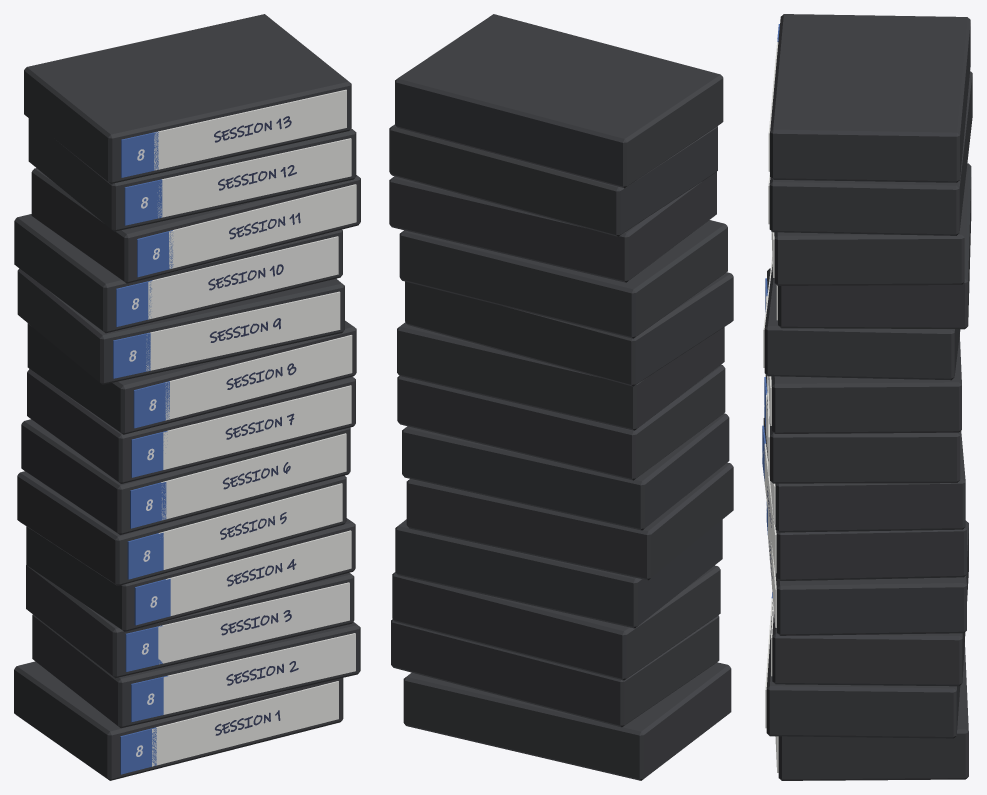
The model's file is video8_tape_stack.glb.
The picture shows the model from 3 angles, left to right: view 1: azimuth 30°, elevation 25°; view 2: azimuth 150°, elevation 25°; view 3: azimuth 270°, elevation 25°; orthographic projection.
Parts seen in each view (by area): view 1: TapeCaseShells, TapeCaseSleeves, TapeCaseBands; view 2: TapeCaseShells; view 3: TapeCaseShells, TapeCaseSleeves, TapeCaseBands.
Boxes of the visible parts, box(x1,y1,x2,y2) form: TapeCaseShells: box(14, 14, 360, 780); TapeCaseSleeves: box(146, 89, 356, 766); TapeCaseBands: box(113, 131, 173, 774); TapeCaseShells: box(389, 14, 733, 780); TapeCaseShells: box(763, 14, 972, 780); TapeCaseSleeves: box(763, 39, 778, 772); TapeCaseBands: box(762, 24, 779, 598).
Bounding box in the file's own units: 0.1153 × 0.273 × 0.0796.
